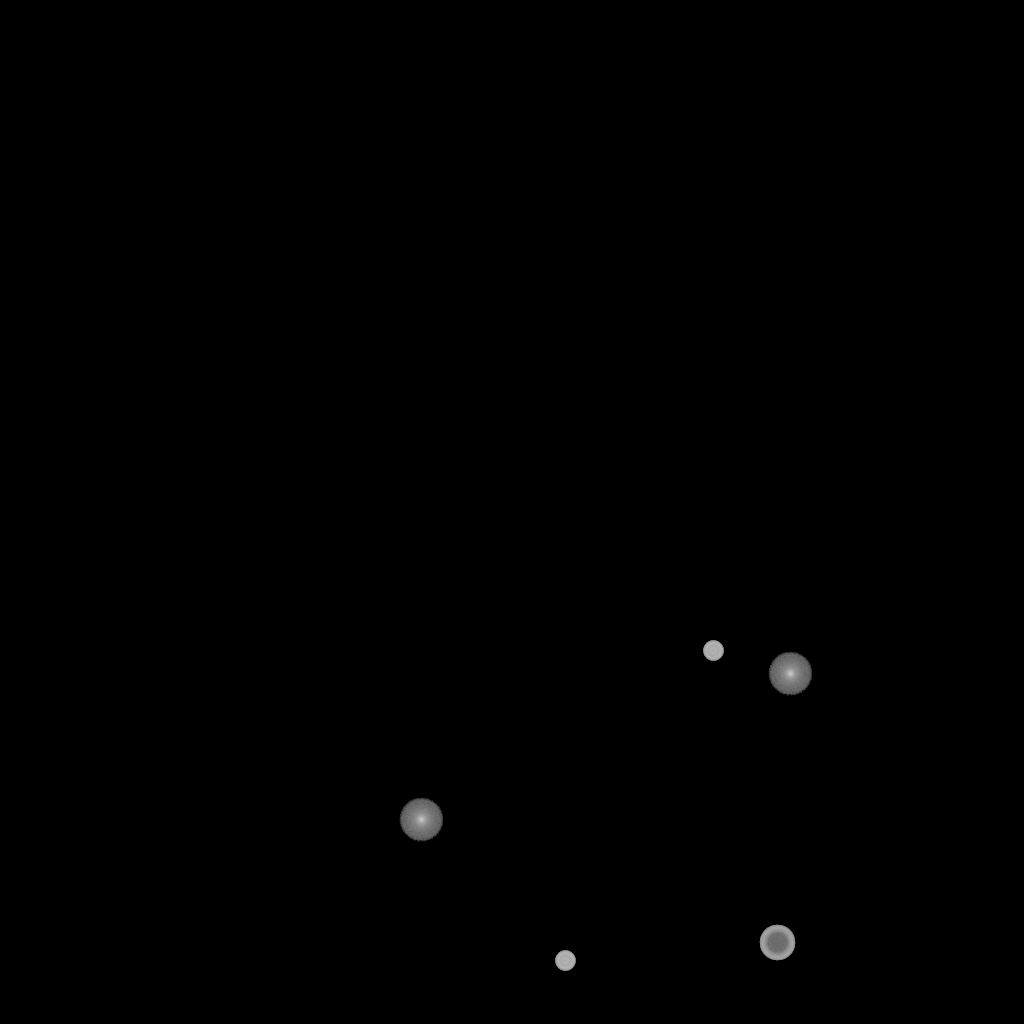depth:-40: (703, 641, 723, 661), (555, 951, 575, 971)
depth:-60: (759, 925, 795, 961)
depth:10: (399, 798, 443, 842), (768, 652, 812, 696)
